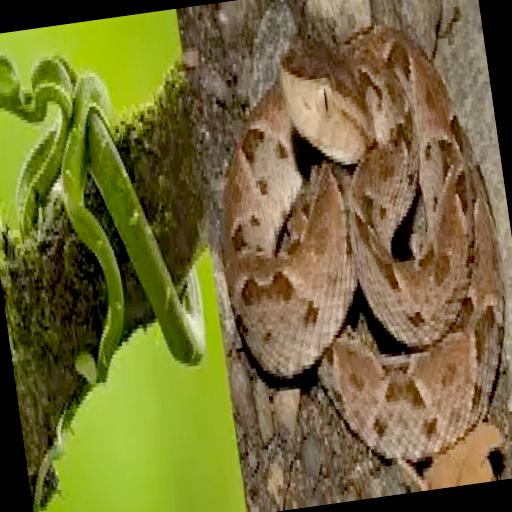snake: (220, 25, 504, 462), (0, 55, 206, 383)
